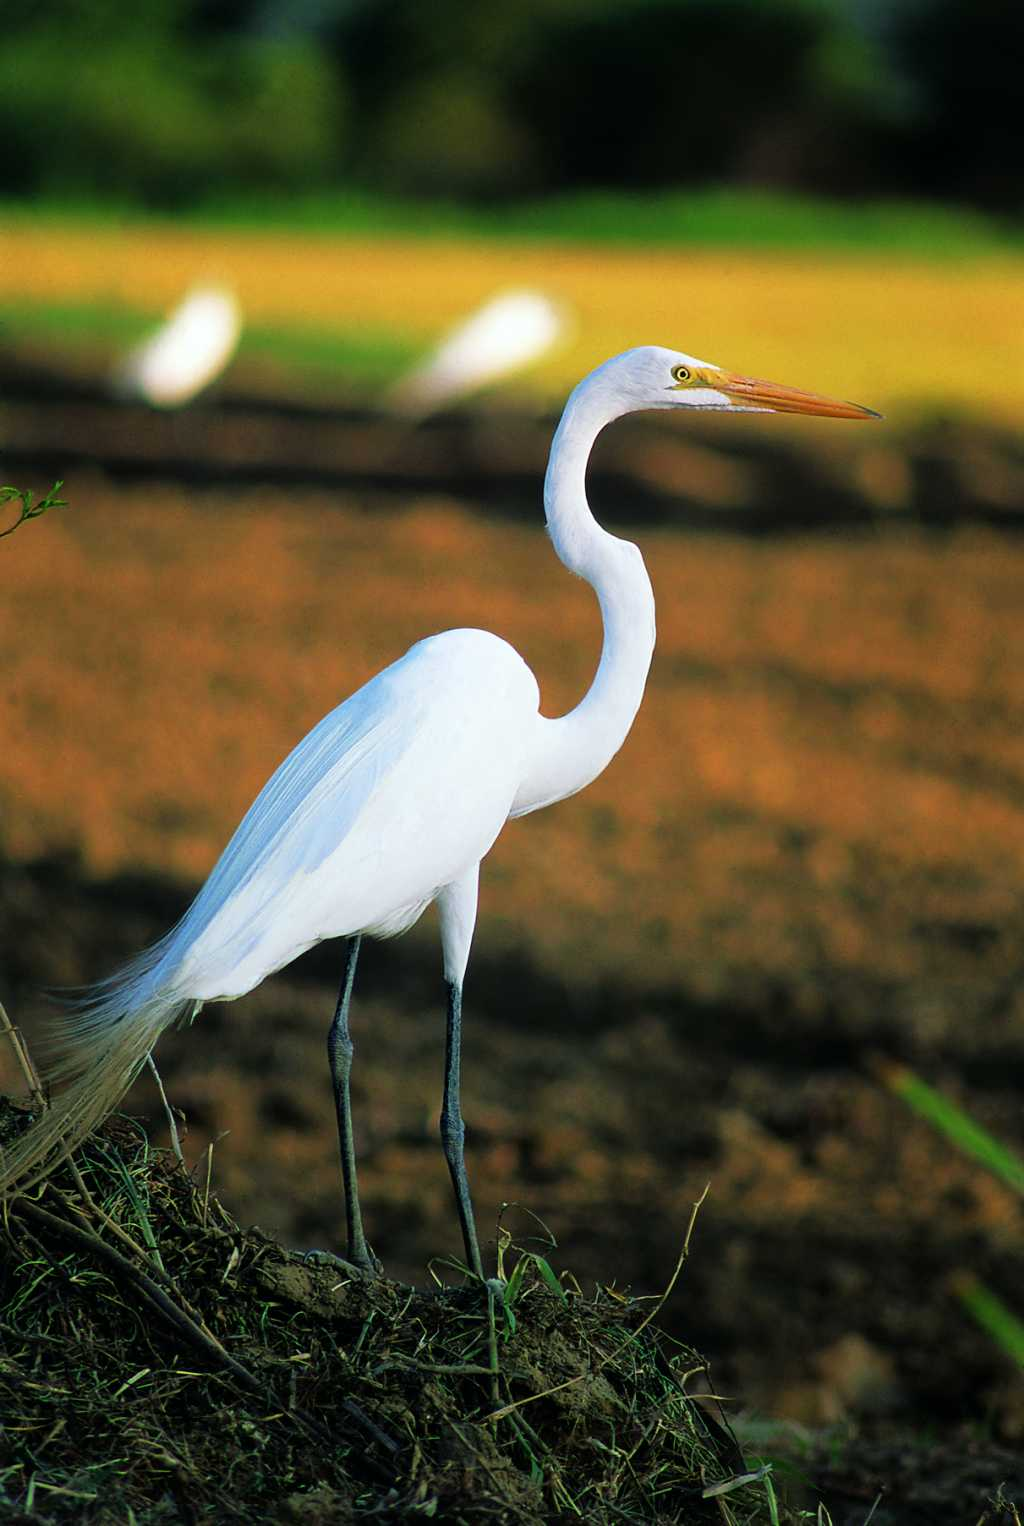bird: (131, 336, 891, 1349)
